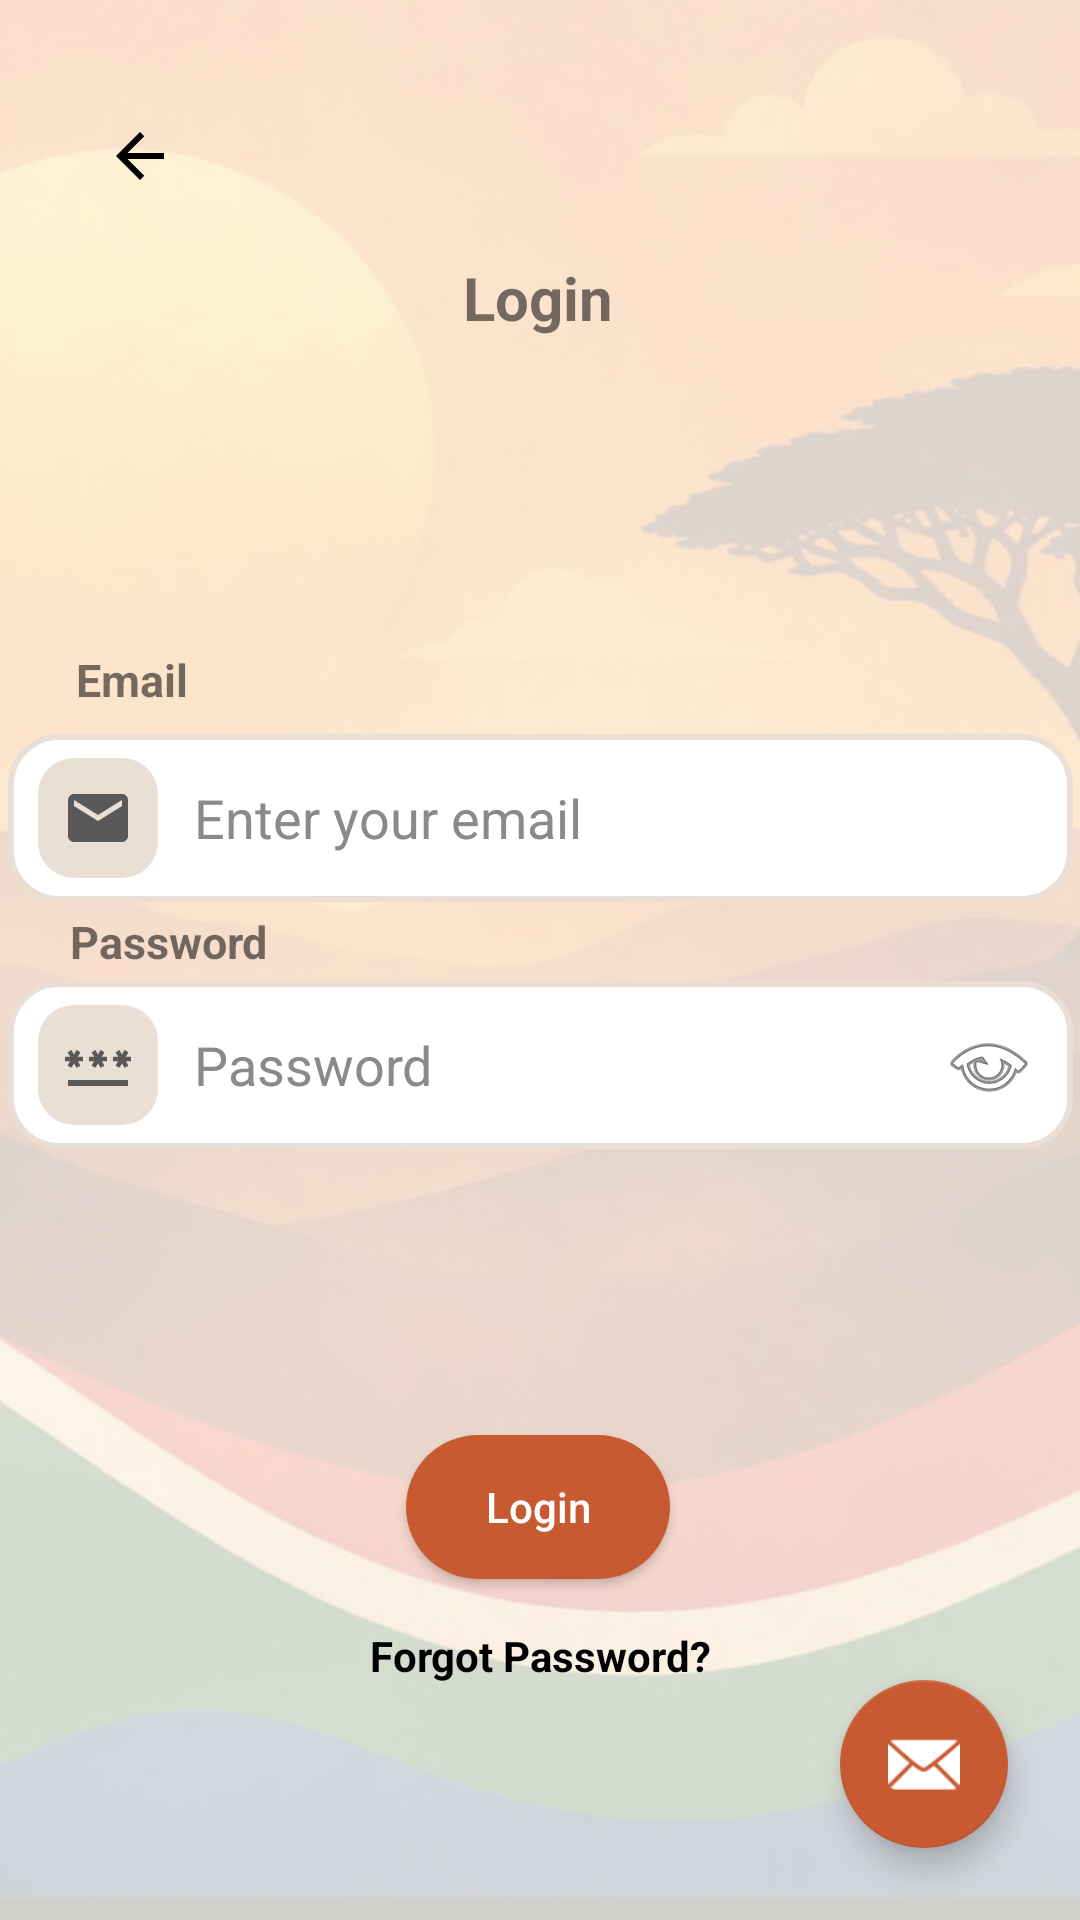

Icon bounding boxes for this 1080w x 1920h phone screenshot, format bbox=(x1, y1, x2, y2):
Chat with us: bbox=(840, 1680, 1008, 1848)
